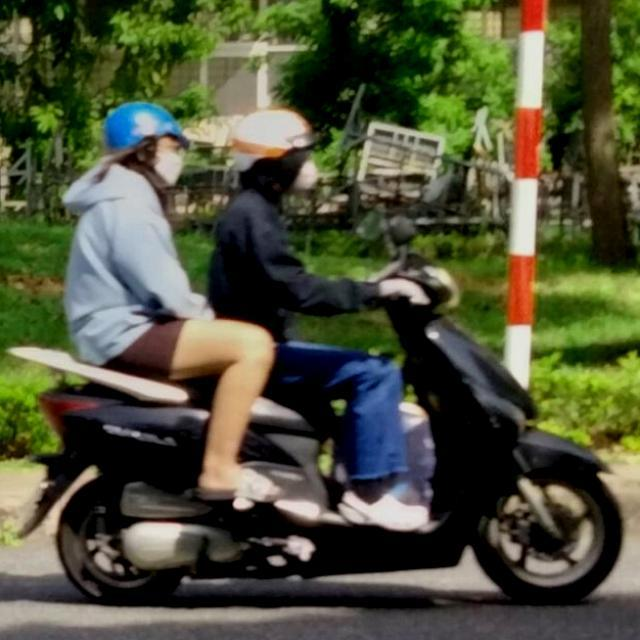Helmet: (97, 99, 189, 189), (230, 106, 318, 200)
